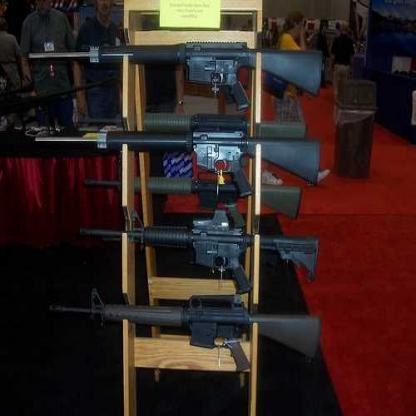rifle: (21, 29, 344, 111), (33, 112, 330, 194), (39, 283, 343, 359), (78, 215, 330, 285)
